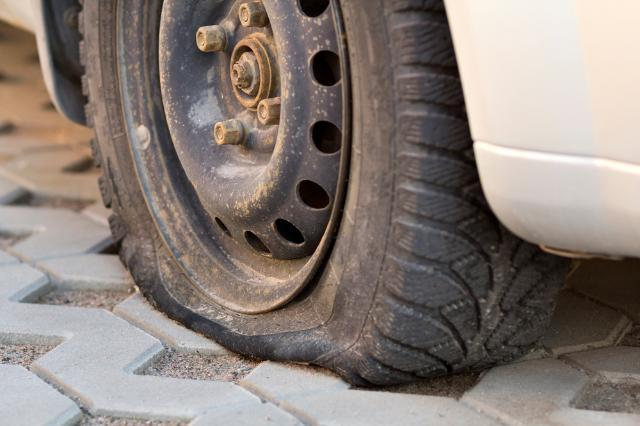tire flat: (79, 0, 565, 385)
